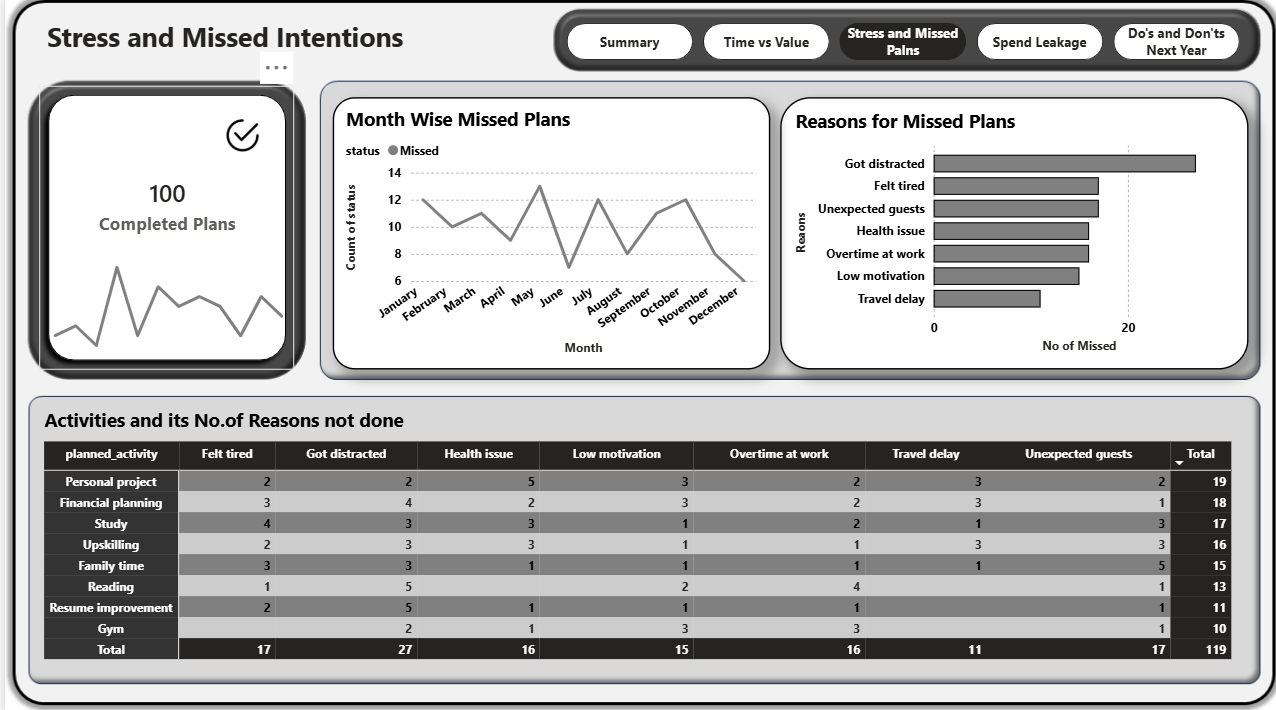

What the dashboard file says about the page in this screenshot:
{"tool":"powerbi","page":{"name":"Stress and Missed Palns","canvas":[1280,720],"ordinal":2},"visuals":[{"type":"pivotTable","title":"Activities and its No.of  Reasons not done","fields":{"Rows":["public planned_actual.planned_activity"],"Columns":["public planned_actual.reason_not_done"],"Values":["CountNonNull(public planned_actual.reason_not_done)"]},"box":[33.6,412.1,1212.4,264.9],"z":0},{"type":"barChart","title":"Reasons for Missed Plans","fields":{"Category":["public planned_actual.reason_not_done"],"Y":["CountNonNull(public planned_actual.status)"]},"box":[776.5,100.9,469.5,273.3],"z":1000},{"type":"lineChart","title":"Month Wise Missed Plans","fields":{"Category":["public planned_actual.date.Variation.Date Hierarchy.Month"],"Y":["CountNonNull(public planned_actual.status)"],"Series":["public planned_actual.status"]},"box":[328,100.9,438.7,273.3],"z":2000},{"type":"shape","box":[33.6,89.7,256.5,284.5],"z":3000},{"type":"cardVisual","fields":{"Data":["public planned_actual.Completed Plans"]},"box":[54.7,157,217.2,106.5],"z":4000},{"type":"lineChart","fields":{"Category":["public planned_actual.date.Variation.Date Hierarchy.Month"],"Y":["public planned_actual.Completed Plans"]},"box":[36.4,238.3,253.7,166.8],"z":5000},{"type":"image","box":[217.2,123.3,42,33.6],"z":6000},{"type":"pageNavigator","box":[563.4,26.6,677,37.8],"z":7000},{"type":"textbox","box":[36.4,16.8,417.7,47.7],"z":8000}]}

Visuals, with their boxes in screenshot pixels (x1, y1, x2, y2), scaled from the page's 1280x720 canvas onto the 1276x710 screenshot:
"Activities and its No.of  Reasons not done" pivotTable: 33 406 1242 668
"Reasons for Missed Plans" barChart: 774 99 1242 369
"Month Wise Missed Plans" lineChart: 327 99 764 369
shape: 33 88 289 369
cardVisual - public planned_actual.Completed Plans: 55 155 271 260
lineChart - public planned_actual.date.Variation.Date Hierarchy.Month x public planned_actual.Completed Plans: 36 235 289 399
image: 217 122 258 155
pageNavigator: 562 26 1237 64
textbox: 36 17 453 64
